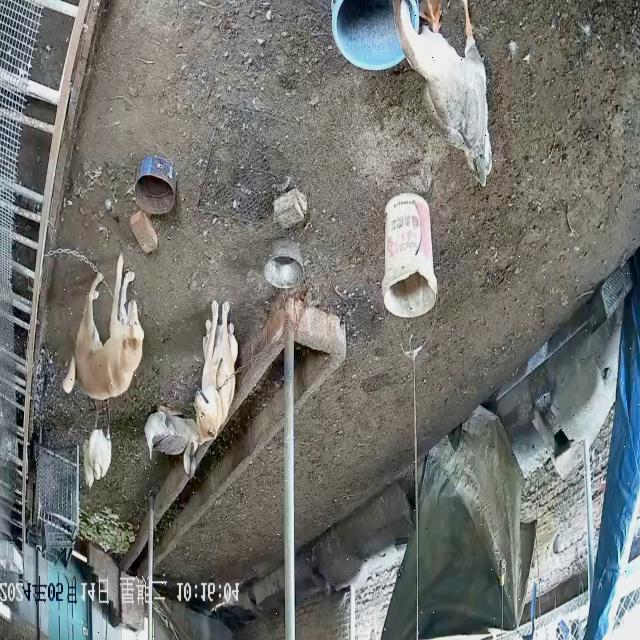dog: (62, 254, 146, 402), (193, 301, 239, 446)
